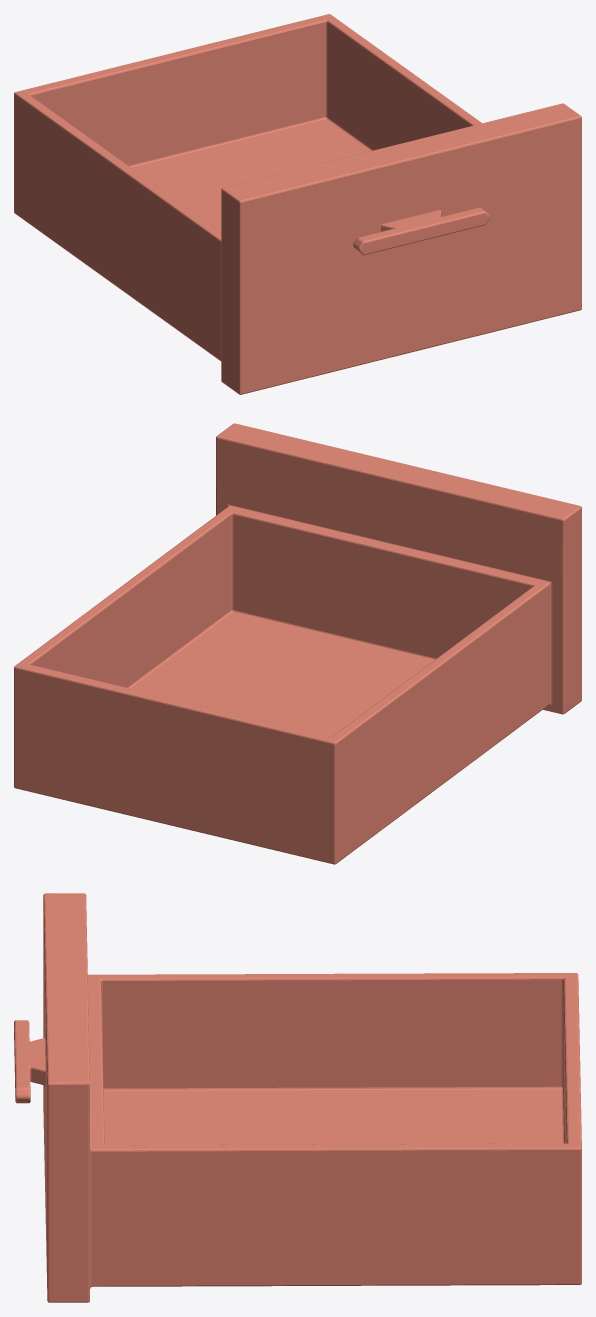
Rendered from EngineerRoom_BookCase_Drawer.fbx.
3 renders of one model, top to bottom at view 1: azimuth 30°, elevation 25°; view 2: azimuth 150°, elevation 25°; view 3: azimuth 270°, elevation 25°, orthographic. The views are drawn at different scales.
Parts seen in each view (by area): view 1: Drawer1; view 2: Drawer1; view 3: Drawer1.
Boxes of the visible parts, <box> form: Drawer1: <box>14,14,581,394</box>; Drawer1: <box>14,423,581,864</box>; Drawer1: <box>14,893,581,1302</box>.
Size of the model in its own units: 60.72 by 25.96 by 48.24.
